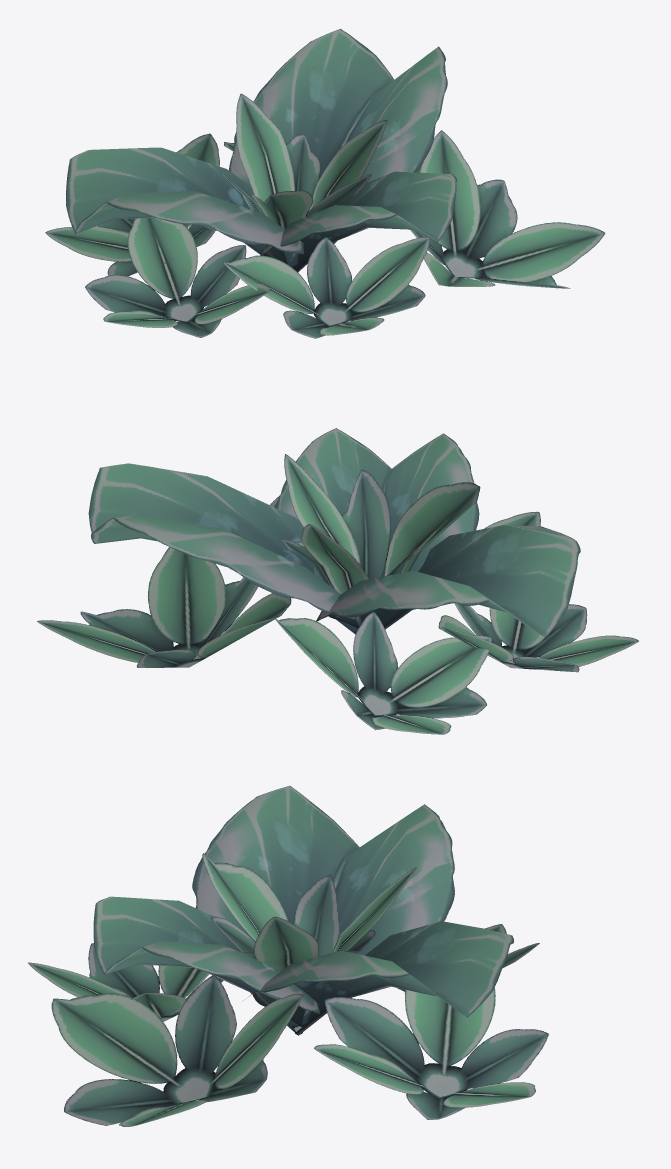
Rendered from Prop_Flowers_02.FBX.
3 views of the same model, one above another, from view 1: azimuth 30°, elevation 25°; view 2: azimuth 150°, elevation 25°; view 3: azimuth 270°, elevation 25° (orthographic). The views are drawn at different scales.
Parts seen in each view (by area): view 1: Prop_Flowers_02; view 2: Prop_Flowers_02; view 3: Prop_Flowers_02.
Boxes of the visible parts, x1=… form: Prop_Flowers_02: x1=45, y1=29, x2=605, y2=338; Prop_Flowers_02: x1=37, y1=428, x2=638, y2=734; Prop_Flowers_02: x1=28, y1=785, x2=548, y2=1126.
Bounding box in the file's own units: 3.05 × 0.9452 × 2.77.
